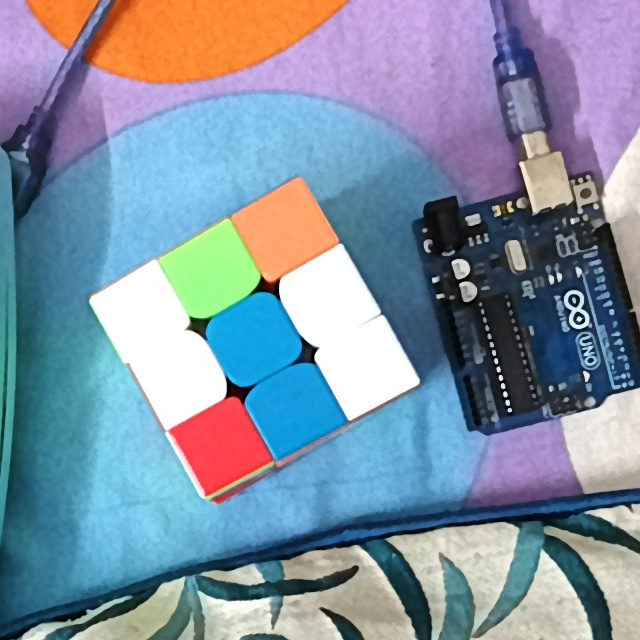tile: (224, 311, 282, 368), (118, 286, 171, 345), (254, 202, 309, 258), (336, 341, 394, 394), (269, 378, 322, 436), (300, 272, 353, 326), (185, 249, 239, 301), (197, 417, 249, 468), (158, 351, 207, 401)
